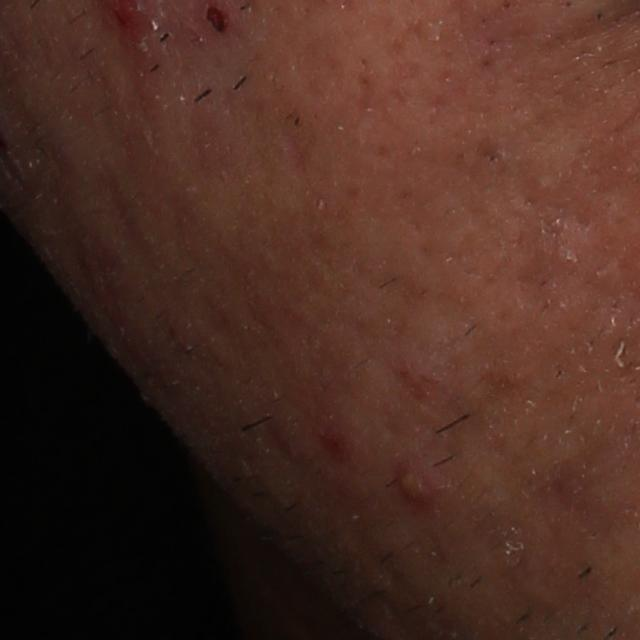pustule: (399, 466, 434, 511)
